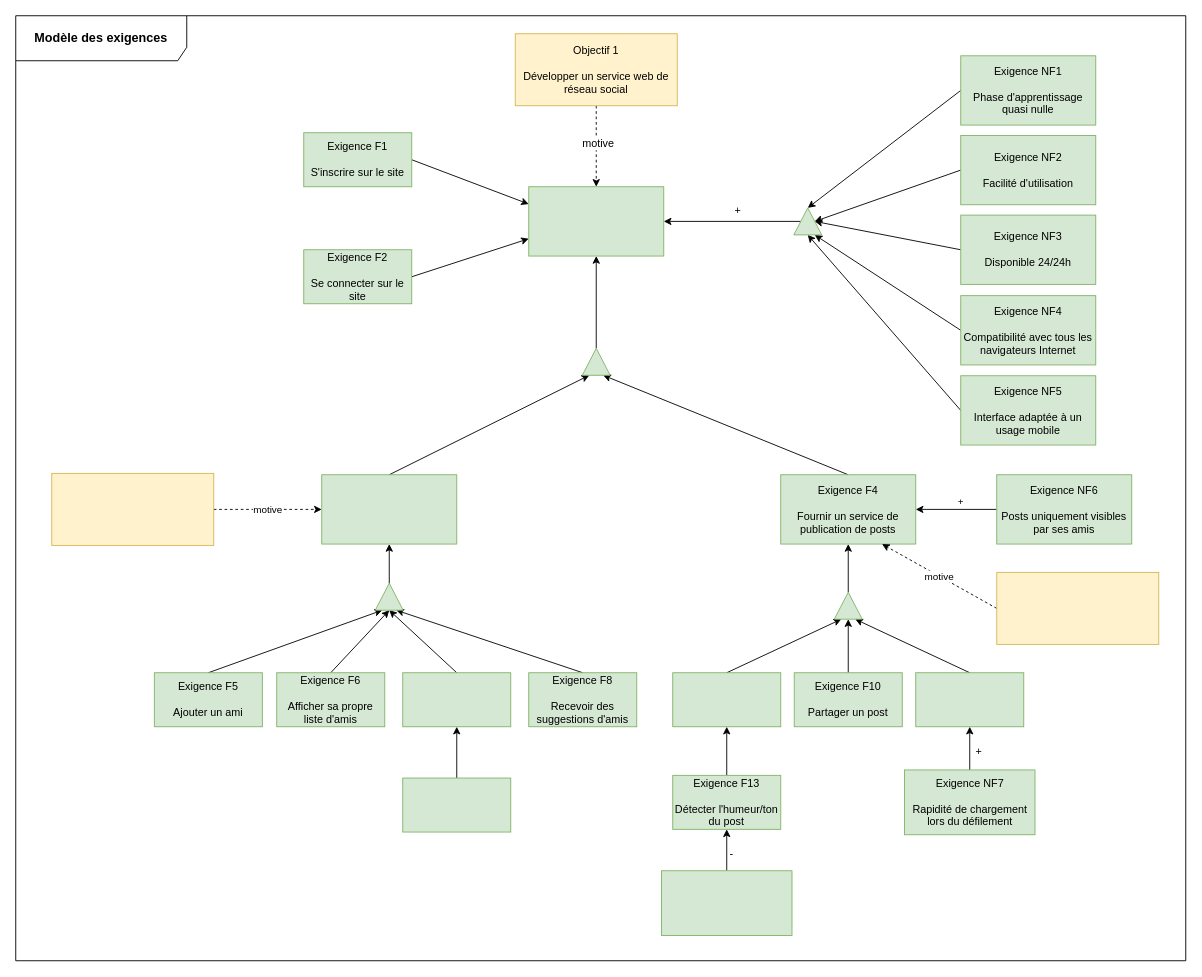
This 1202x977 diagram has some shape labels left out. Each missing label, with the box of its shape:
Exigence F11 Afficher son fil d'actualité: (915, 672, 1024, 727)
Exigence F12 Afficher la liste d'amis de ses amis: (402, 777, 511, 832)
Exigence F3 Fournir un service de liaison d'amis: (321, 474, 457, 544)
Exigence F7 Fournir un service de recherche d'amis: (402, 672, 511, 727)
Exigence F9 Publier un post: (672, 672, 781, 727)
Exigence NF8 Utilisation d'un système externe existant: (661, 870, 792, 936)
Objectif 2 Offrir un service de liaison d'amis: (51, 472, 214, 545)
Objectif 3 Offrir un service de publication de posts: (996, 572, 1159, 644)
Objectif SI 1 Fournir un service web de réseau social: (528, 186, 664, 256)
